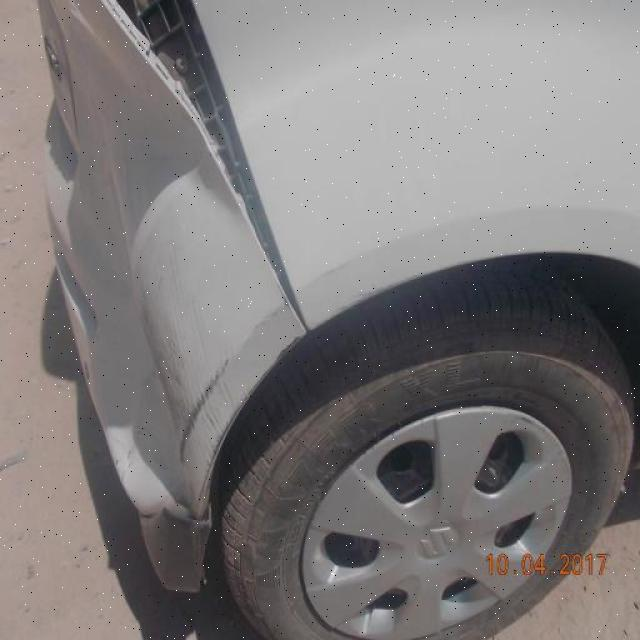car damage: (107, 0, 313, 342), (86, 142, 211, 594), (173, 344, 236, 471)
